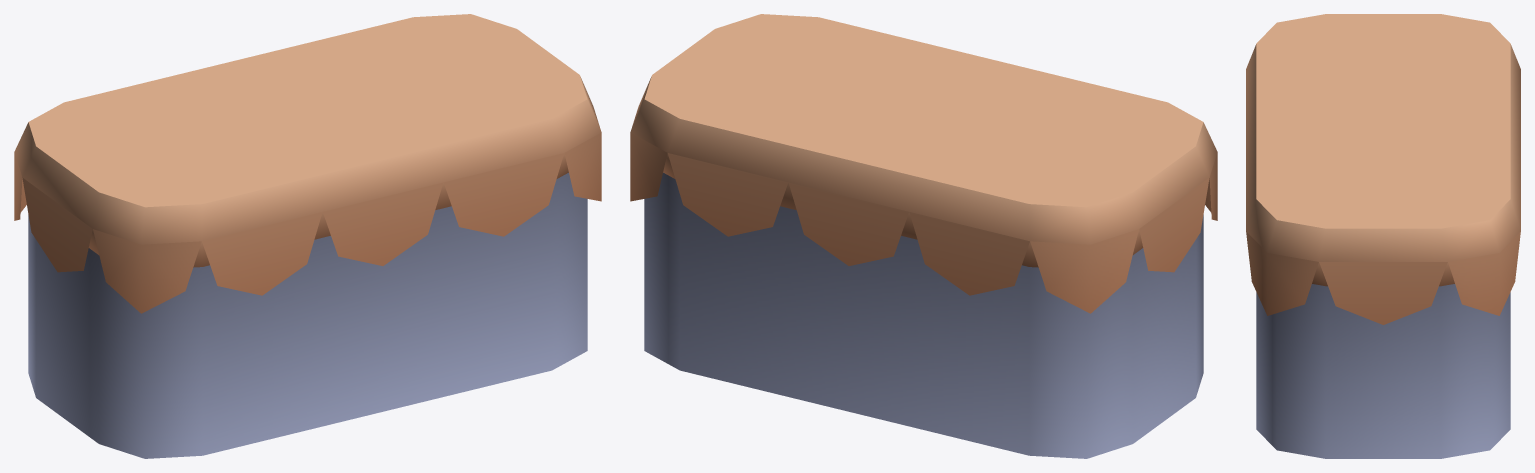
Rendered from block-grass-overhang-long.glb.
The picture shows the model from 3 angles, left to right: view 1: azimuth 30°, elevation 25°; view 2: azimuth 150°, elevation 25°; view 3: azimuth 270°, elevation 25°; orthographic projection. The views are drawn at different scales.
Parts seen in each view (by area): view 1: block-grass-overhang-long; view 2: block-grass-overhang-long; view 3: block-grass-overhang-long.
Part boxes in pixels (box(x1,y1,x2,y2)): block-grass-overhang-long: box(14, 14, 601, 458); block-grass-overhang-long: box(630, 14, 1217, 458); block-grass-overhang-long: box(1246, 14, 1520, 458).
Bounding box in the file's own units: 2.08 × 1 × 1.08.
